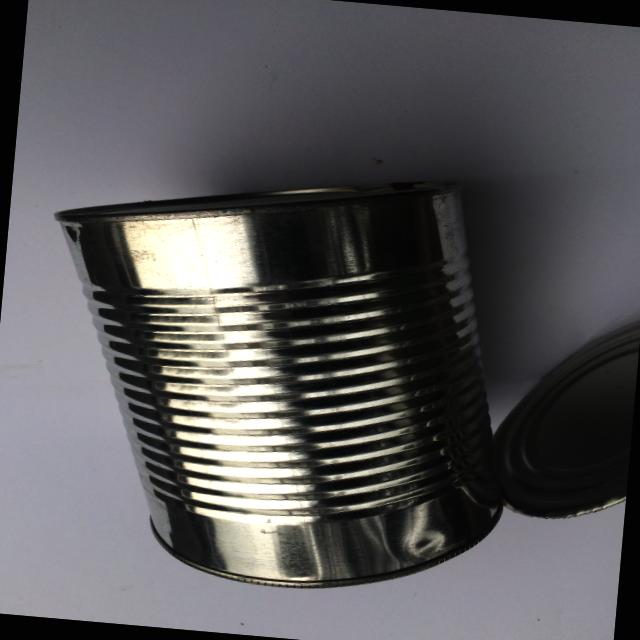Metal: (20, 97, 640, 625)
